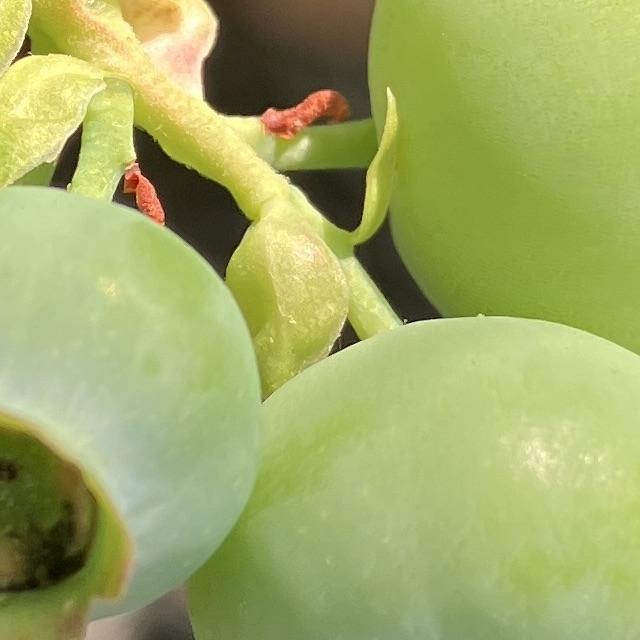Blueberries: (182, 308, 640, 640), (360, 0, 640, 401)
